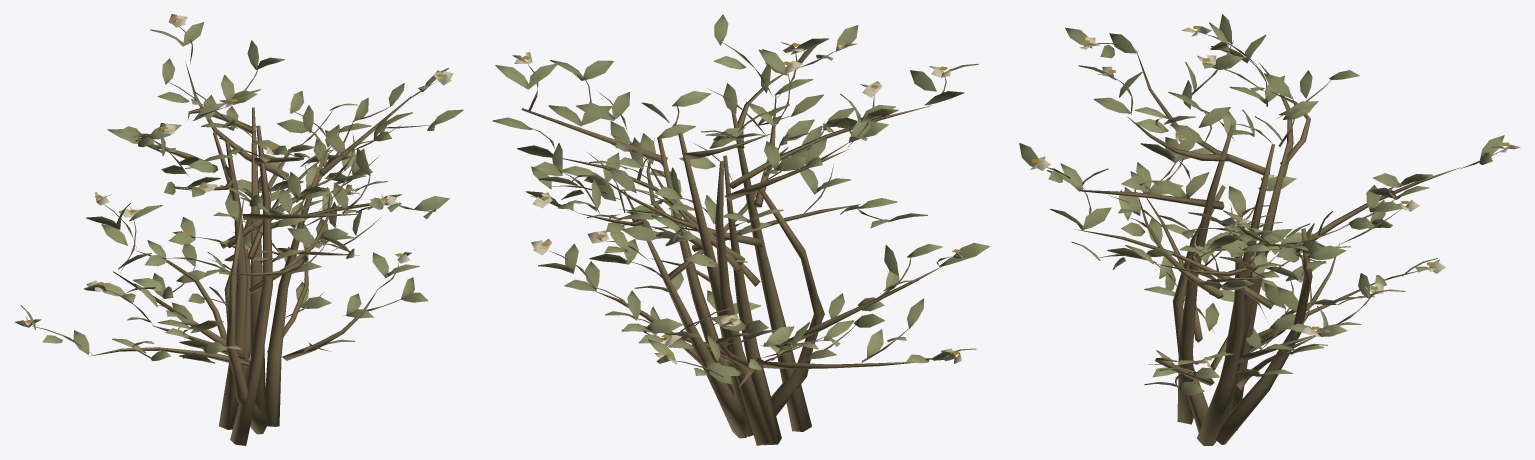
File: Ciste_1_LOD1.fbx
3 views of the same model, side by side, from view 1: azimuth 30°, elevation 25°; view 2: azimuth 150°, elevation 25°; view 3: azimuth 270°, elevation 25° (orthographic). The views are drawn at different scales.
Visible parts, largest first — view 1: Ciste_1_LOD1; view 2: Ciste_1_LOD1; view 3: Ciste_1_LOD1.
Part boxes in pixels (left/top/right/bottom): Ciste_1_LOD1: left=14, top=14, right=463, bottom=445; Ciste_1_LOD1: left=492, top=14, right=990, bottom=445; Ciste_1_LOD1: left=1019, top=14, right=1520, bottom=445.
Size of the model in its own units: 132 by 102 by 124.
